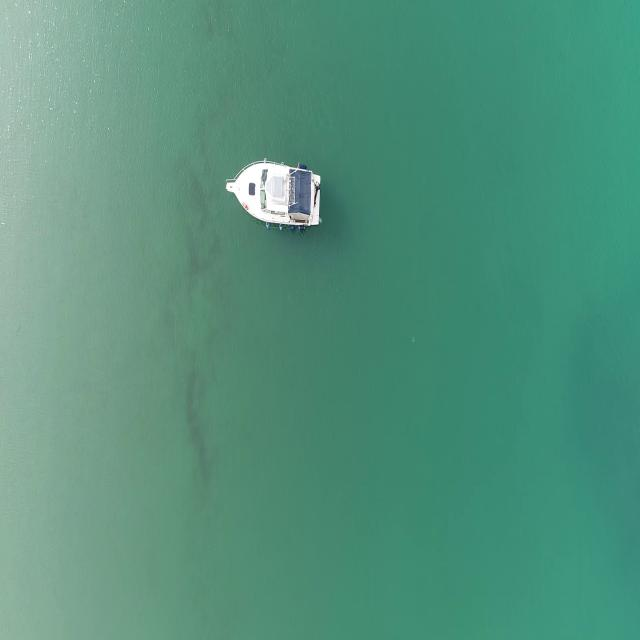boat: (225, 157, 323, 235)
